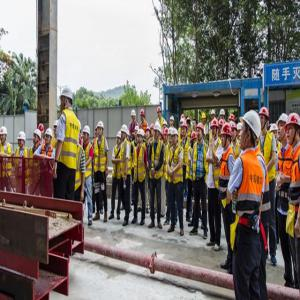none: (192, 119, 198, 132)
red: (286, 112, 300, 147), (260, 105, 271, 133), (222, 124, 233, 150), (211, 118, 220, 142), (197, 123, 205, 143), (232, 124, 239, 143), (191, 132, 198, 147), (182, 123, 188, 137), (146, 128, 152, 142), (164, 128, 169, 143), (141, 109, 146, 123), (158, 106, 163, 119)
white: (240, 108, 262, 152), (60, 86, 75, 113), (278, 113, 288, 142), (34, 129, 43, 148), (18, 131, 27, 149), (271, 124, 279, 144), (154, 124, 162, 143), (46, 129, 54, 147), (83, 126, 91, 143), (2, 126, 9, 145), (172, 129, 179, 146), (98, 122, 105, 138), (137, 130, 144, 145), (219, 108, 227, 121), (122, 125, 128, 142), (117, 131, 123, 146), (169, 128, 174, 143), (212, 109, 217, 120), (171, 116, 176, 127), (132, 111, 137, 122)
yellow: (203, 112, 208, 125)
